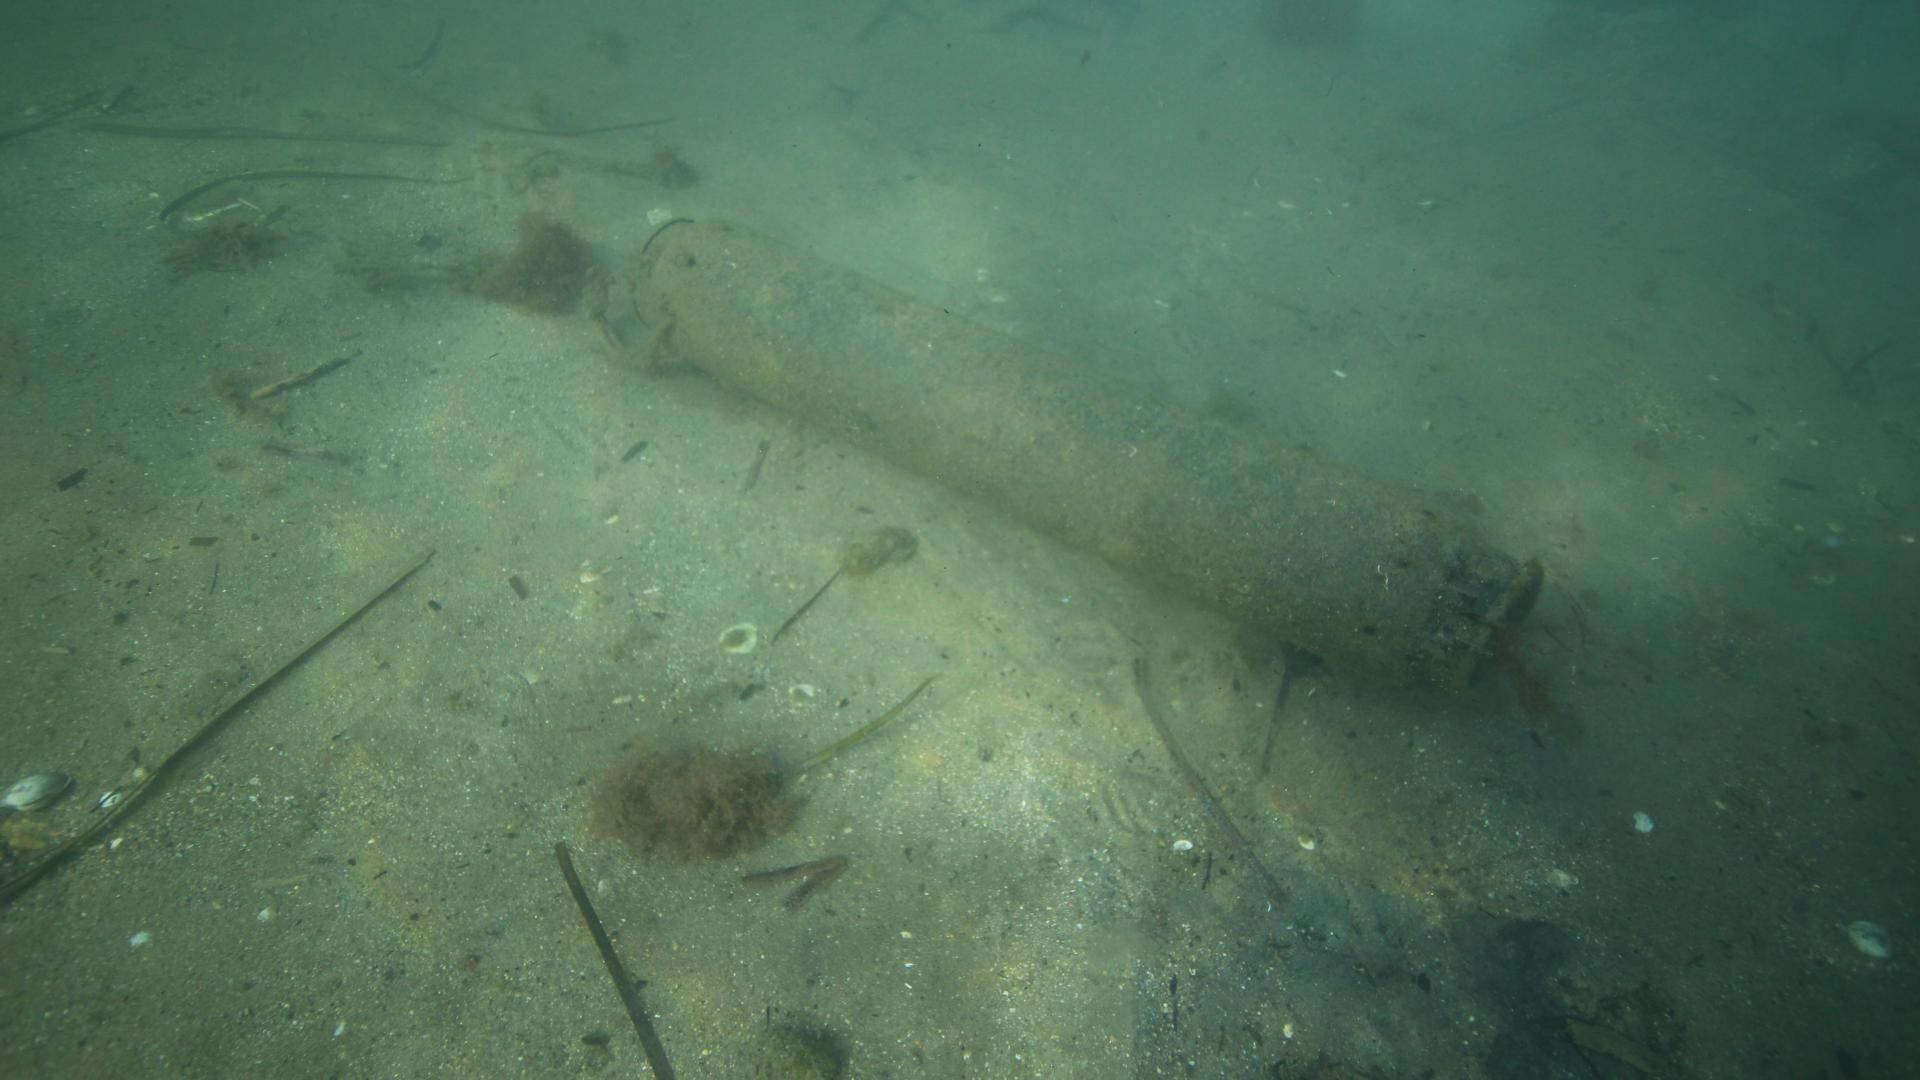eel fish trap: (626, 212, 1553, 709)
